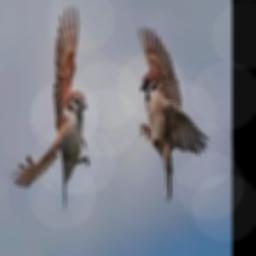Sparrow: (10, 5, 90, 208), (137, 26, 209, 204)
